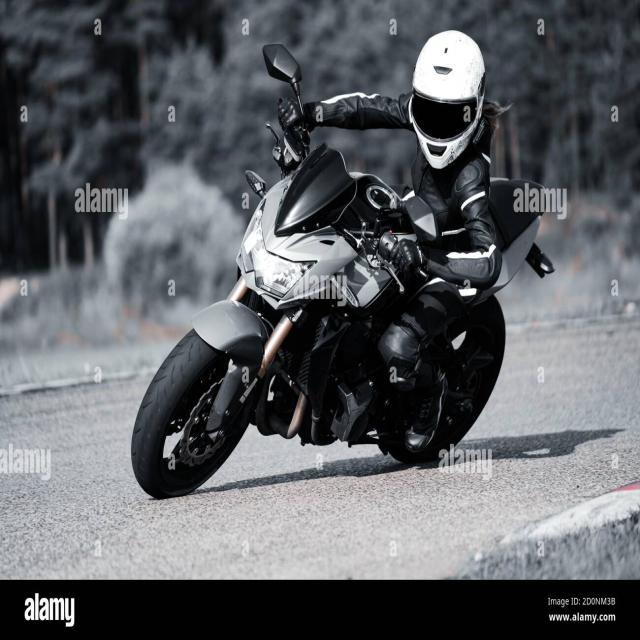MOTORCYCLE: (118, 158, 507, 476)
